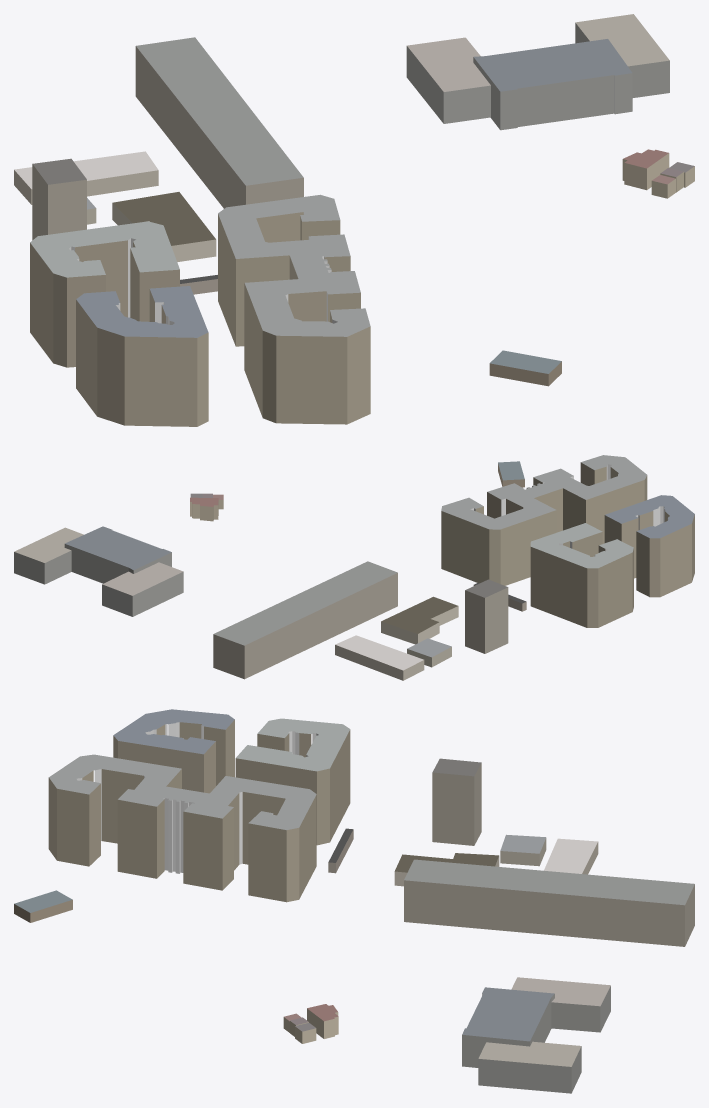
3 views of the same model, one above another, from view 1: azimuth 30°, elevation 25°; view 2: azimuth 150°, elevation 25°; view 3: azimuth 270°, elevation 25° (orthographic). The views are drawn at different scales.
Parts seen in each view (by area): view 1: tuile; view 2: tuile; view 3: tuile.
Boxes of the visible parts, x1,y1,x2,y2 form: tuile: [14, 14, 694, 426]; tuile: [14, 455, 694, 680]; tuile: [14, 709, 694, 1093].
Bounding box in the file's own units: 262 × 29.86 × 241.
